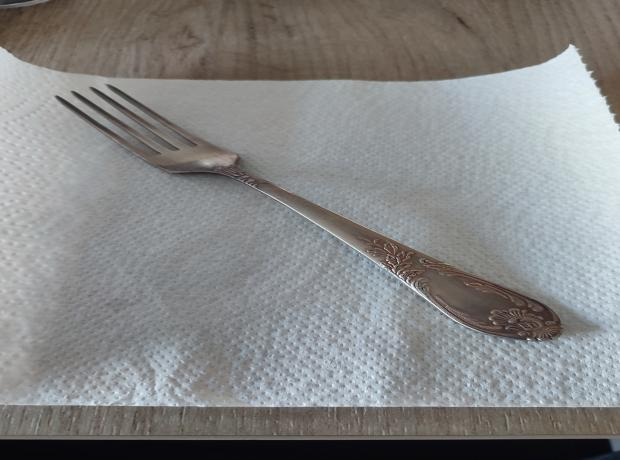metal: (51, 84, 567, 342)
